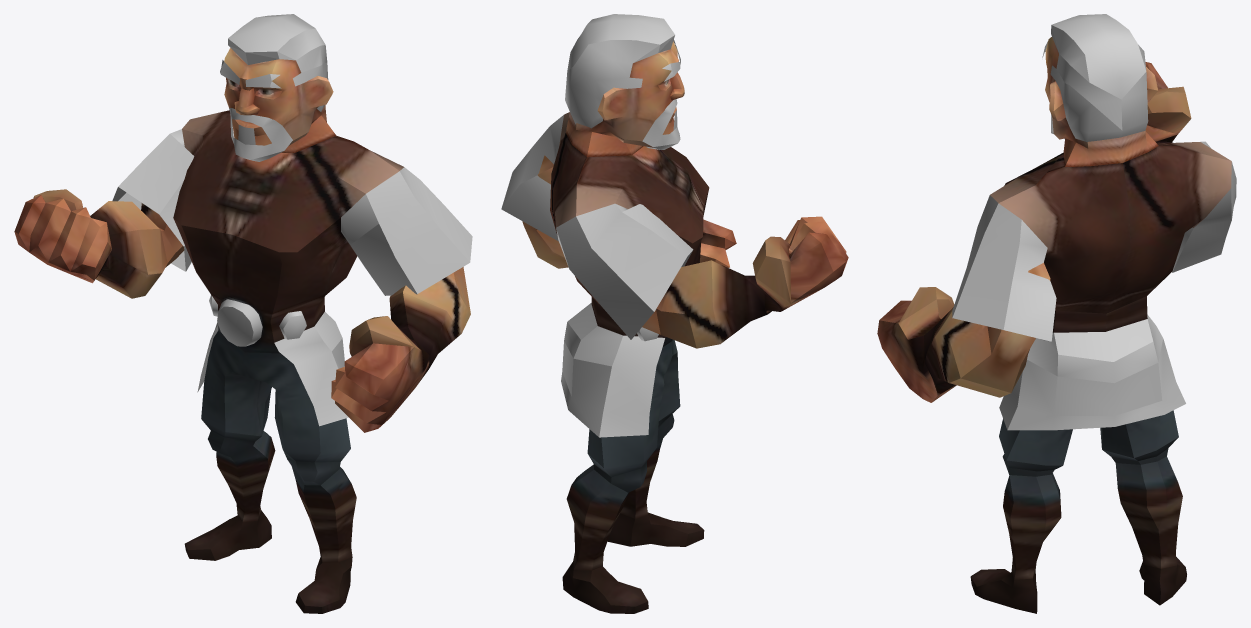
The model's file is Pose.FBX.
3 renders of one model, left to right at view 1: azimuth 30°, elevation 25°; view 2: azimuth 150°, elevation 25°; view 3: azimuth 270°, elevation 25°, orthographic. The views are drawn at different scales.
Visible parts, largest first — view 1: MerchantBody, MerchantItem, MerchantHair; view 2: MerchantBody, MerchantItem, MerchantHair; view 3: MerchantBody, MerchantItem, MerchantHair.
Part boxes in pixels (x1=…): MerchantBody: x1=14, y1=48, x2=470, y2=613; MerchantItem: x1=112, y1=129, x2=472, y2=426; MerchantHair: x1=220, y1=14, x2=328, y2=161; MerchantBody: x1=522, y1=41, x2=848, y2=613; MerchantItem: x1=501, y1=115, x2=693, y2=437; MerchantHair: x1=565, y1=14, x2=680, y2=149; MerchantBody: x1=877, y1=37, x2=1231, y2=613; MerchantItem: x1=952, y1=141, x2=1236, y2=430; MerchantHair: x1=1042, y1=14, x2=1148, y2=142.
Bounding box in the file's own units: 1.73 × 1.33 × 2.31.
